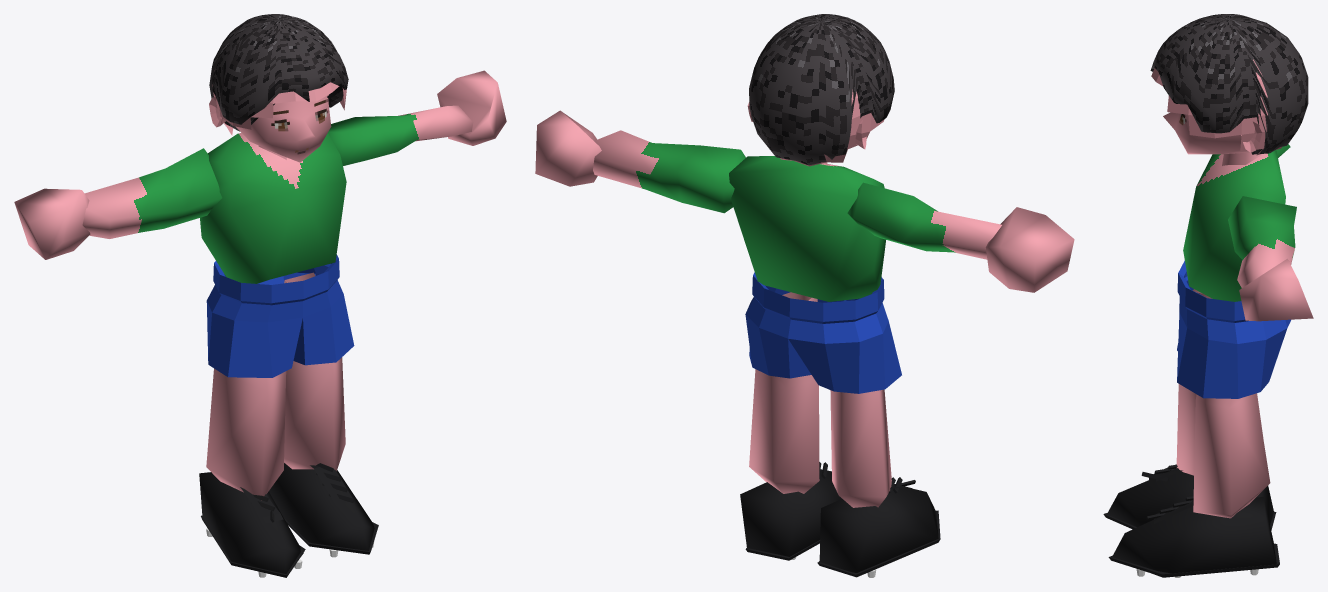
File: 03-raspado_preto.glb
3 views of the same model, side by side, from view 1: azimuth 30°, elevation 25°; view 2: azimuth 150°, elevation 25°; view 3: azimuth 270°, elevation 25° (orthographic). The views are drawn at different scales.
Visible parts, largest first — view 1: Camisa_Tronco, Bermuda, Cabelo, Perna.R, Braco.R, Perna.L, Chuteira.R, Chuteira.L, Braco.L, Mao.R, Cabeca, Mao.L (+4 smaller); view 2: Camisa_Tronco, Cabelo, Bermuda, Perna.L, Braco.L, Chuteira.R, Perna.R, Braco.R, Mao.R, Chuteira.L, Mao.L, Couro_Cabeludo (+1 smaller); view 3: Cabelo, Bermuda, Chuteira.L, Camisa_Tronco, Perna.L, Braco.L, Mao.L, Chuteira.R, Perna.R, Couro_Cabeludo, Cabeca, Chuteira_Sola.L (+4 smaller).
Boxes of the visible parts, box(x1,y1,x2,y2) form: Camisa_Tronco: box(200, 132, 346, 283); Bermuda: box(206, 254, 354, 377); Cabelo: box(209, 14, 348, 131); Perna.R: box(206, 368, 286, 500); Braco.R: box(82, 148, 222, 238); Perna.L: box(284, 272, 345, 471); Chuteira.R: box(199, 472, 303, 573); Chuteira.L: box(269, 463, 374, 550); Braco.L: box(328, 105, 473, 165); Mao.R: box(14, 188, 90, 259); Cabeca: box(235, 94, 331, 162); Mao.L: box(437, 70, 506, 145); Camisa_Tronco: box(729, 156, 885, 301); Cabelo: box(749, 14, 894, 165); Bermuda: box(745, 272, 901, 393); Perna.L: box(749, 292, 819, 493); Braco.L: box(593, 130, 745, 213); Chuteira.R: box(819, 484, 938, 572); Perna.R: box(830, 389, 891, 507); Braco.R: box(847, 182, 1001, 259); Mao.R: box(985, 207, 1074, 292); Chuteira.L: box(740, 469, 841, 556); Mao.L: box(535, 110, 601, 186); Couro_Cabeludo: box(780, 89, 884, 166); Cabelo: box(1150, 14, 1308, 154); Bermuda: box(1177, 260, 1290, 398); Chuteira.L: box(1112, 497, 1277, 577); Camisa_Tronco: box(1183, 150, 1285, 301); Perna.L: box(1193, 393, 1270, 518); Braco.L: box(1228, 196, 1296, 287); Mao.L: box(1239, 258, 1313, 321); Chuteira.R: box(1107, 468, 1273, 527); Perna.R: box(1176, 289, 1262, 475); Couro_Cabeludo: box(1151, 59, 1281, 155); Cabeca: box(1163, 112, 1249, 154); Chuteira_Sola.L: box(1108, 543, 1279, 577).
Bounding box in the file's own units: 0.4523 × 0.4509 × 0.1617.
Materials: 3 (3 with a texture image).
